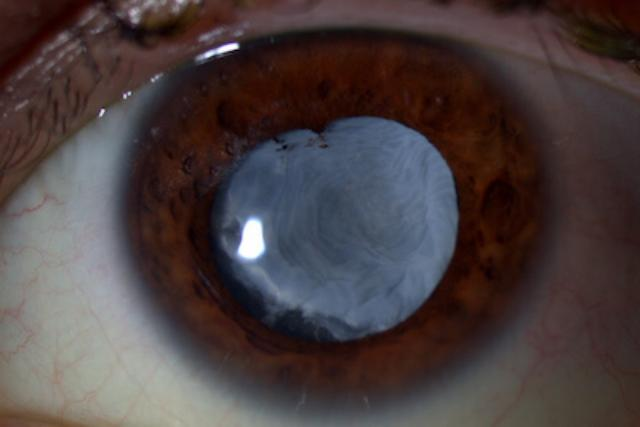eye: (120, 18, 564, 410)
